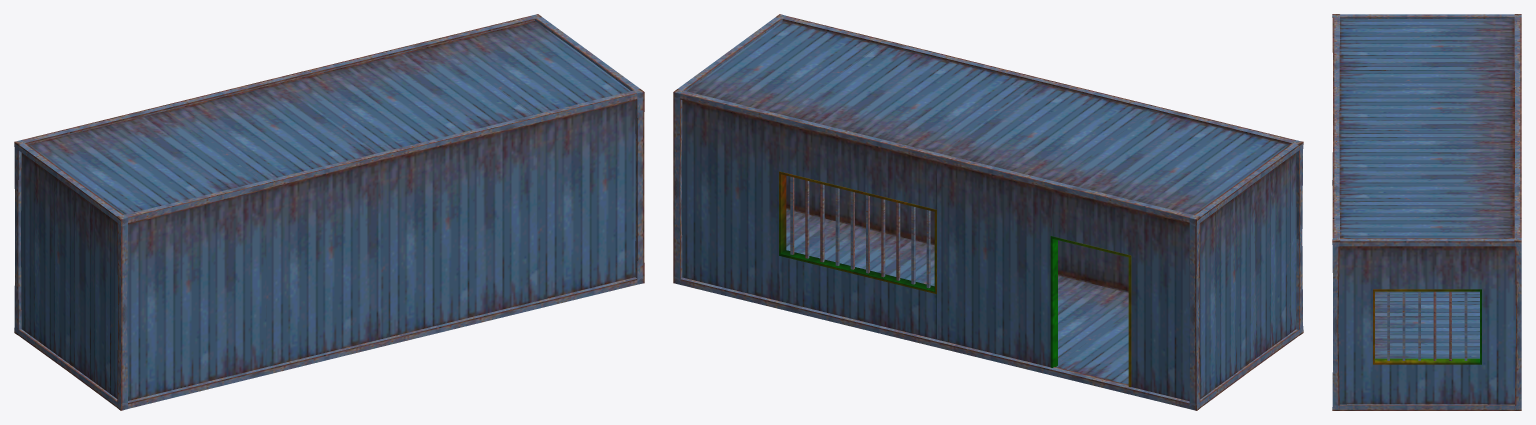
Rendered from containerbuilding_blue_containers_mobile_0_lev1.glb.
The picture shows the model from 3 angles, left to right: view 1: azimuth 30°, elevation 25°; view 2: azimuth 150°, elevation 25°; view 3: azimuth 270°, elevation 25°; orthographic projection. The views are drawn at different scales.
Parts seen in each view (by area): view 1: containerbuilding_blue_containers_mobile_0_lev1; view 2: containerbuilding_blue_containers_mobile_0_lev1; view 3: containerbuilding_blue_containers_mobile_0_lev1.
Part boxes in pixels (left/top/right/bottom): containerbuilding_blue_containers_mobile_0_lev1: left=14, top=14, right=644, bottom=410; containerbuilding_blue_containers_mobile_0_lev1: left=673, top=14, right=1303, bottom=410; containerbuilding_blue_containers_mobile_0_lev1: left=1332, top=14, right=1521, bottom=410.
Size of the model in its own units: 5.37 by 1.87 by 1.89.
Materials: 1 (1 with a texture image).
